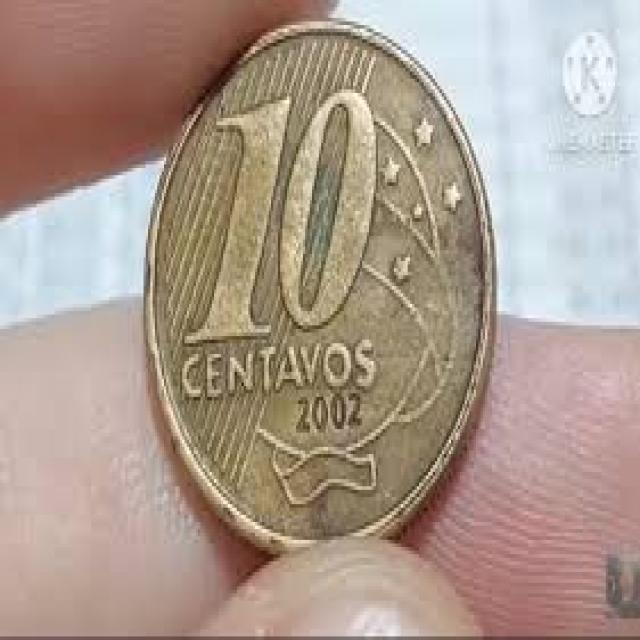10 cent: (170, 12, 469, 562)
